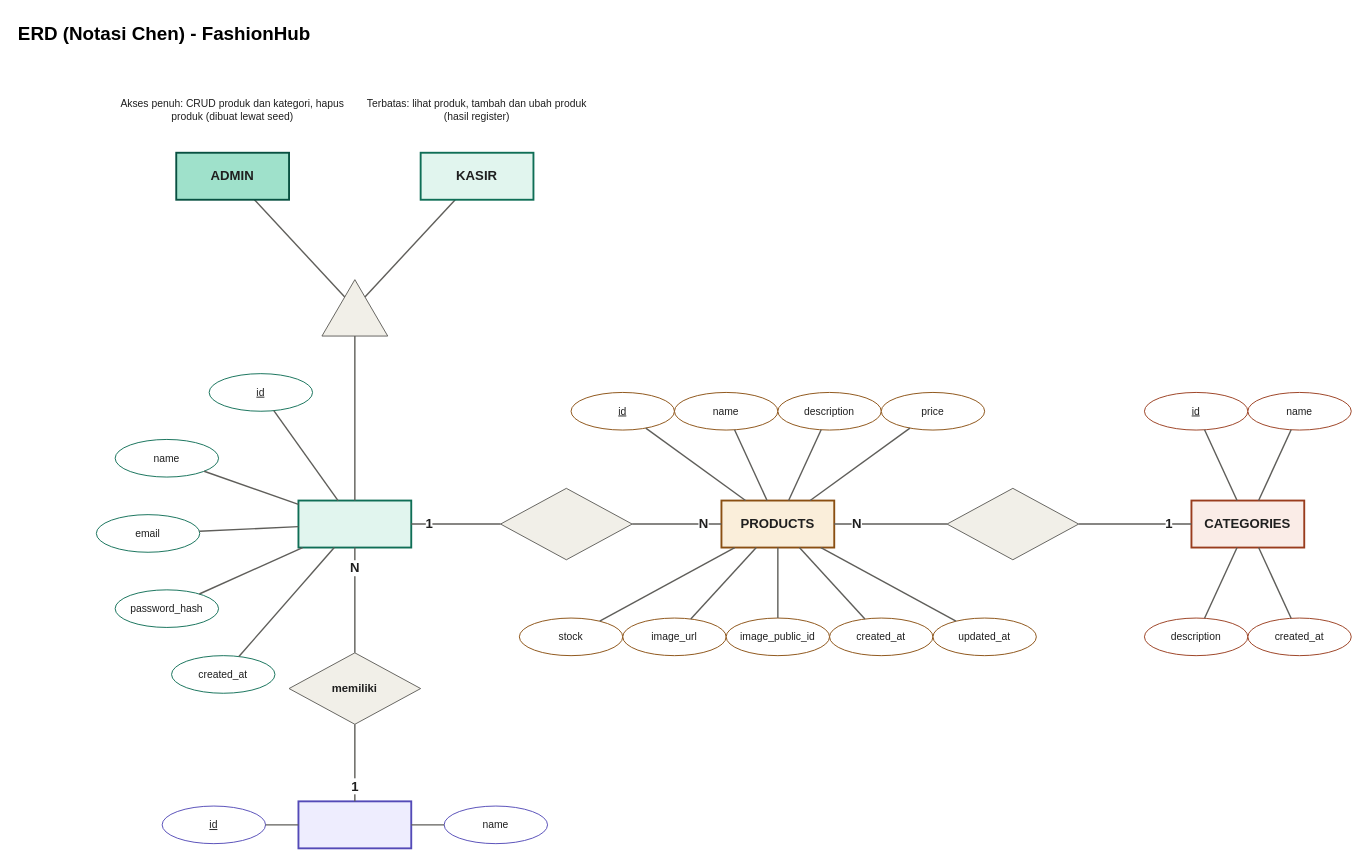
Image size: 1368x865. Some labels were removed from this diagram. The centre of each missing label's shape, as x and y in pixels:
ISA: the point at 354,307
mencatat: the point at 566,523
mengelompokkan: the point at 1012,523
ROLES: the point at 354,824
USERS: the point at 354,523
